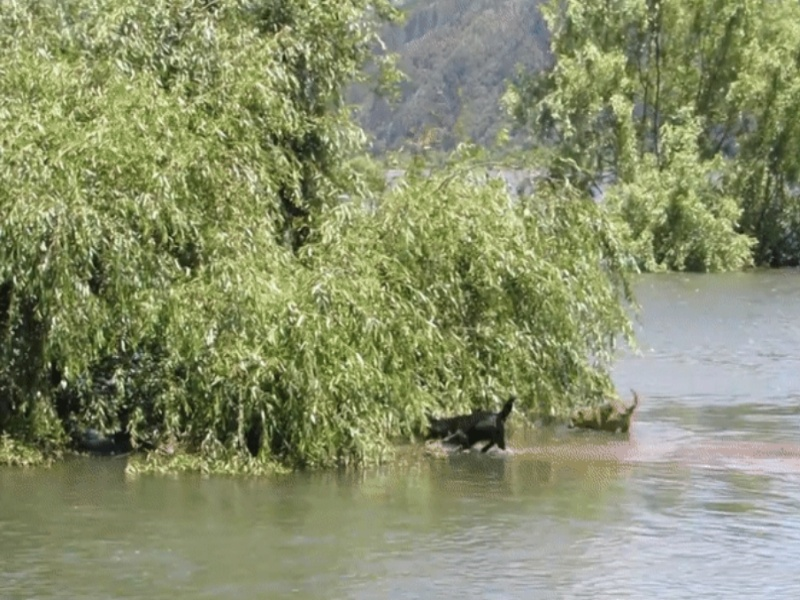dog: (415, 393, 519, 462), (560, 385, 641, 439)
